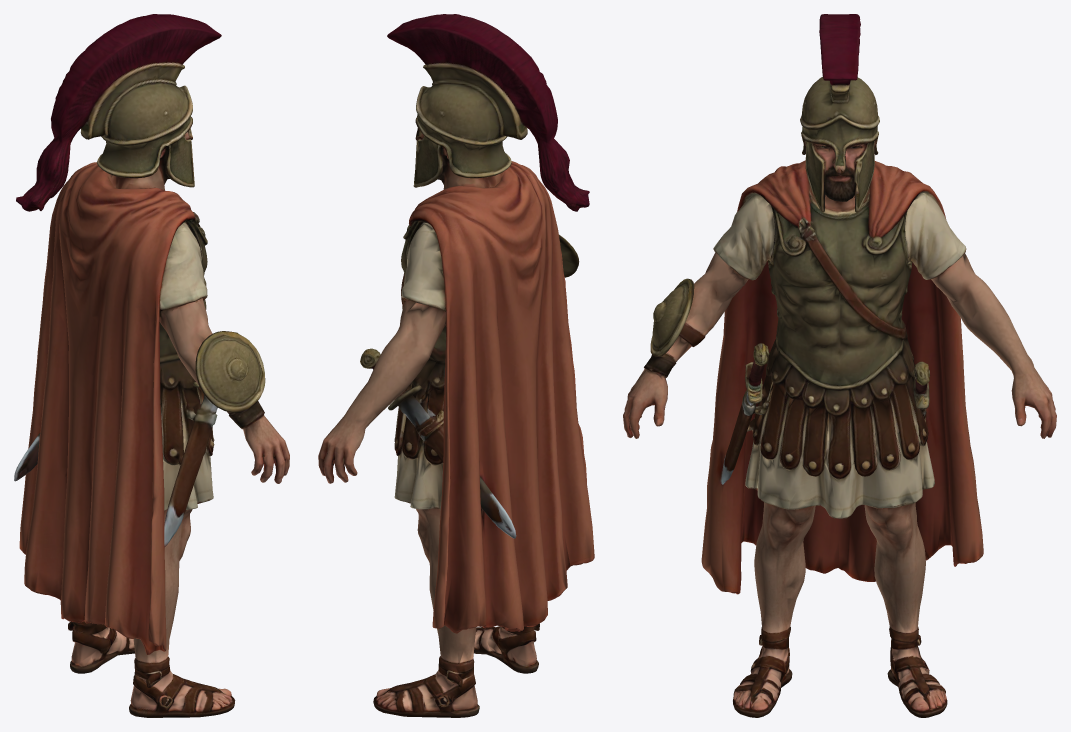
Rendered from odysseus.glb.
3 renders of one model, left to right at view 1: azimuth 30°, elevation 25°; view 2: azimuth 150°, elevation 25°; view 3: azimuth 270°, elevation 25°, orthographic. The views are drawn at different scales.
Visible parts, largest first — view 1: tripo_node_cbf9b190-a039-407d-8e7c-2d509b2c69ce; view 2: tripo_node_cbf9b190-a039-407d-8e7c-2d509b2c69ce; view 3: tripo_node_cbf9b190-a039-407d-8e7c-2d509b2c69ce.
Part boxes in pixels (box(x1,y1,x2,y2)): tripo_node_cbf9b190-a039-407d-8e7c-2d509b2c69ce: box(14, 14, 289, 717); tripo_node_cbf9b190-a039-407d-8e7c-2d509b2c69ce: box(318, 14, 594, 717); tripo_node_cbf9b190-a039-407d-8e7c-2d509b2c69ce: box(623, 14, 1056, 717).
Size of the model in its own units: 0.3089 by 0.9998 by 0.5832.
Materials: 1 (1 with a texture image).
